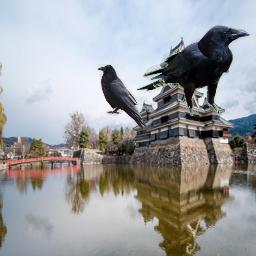Crow: (136, 25, 251, 116), (97, 64, 147, 130)
